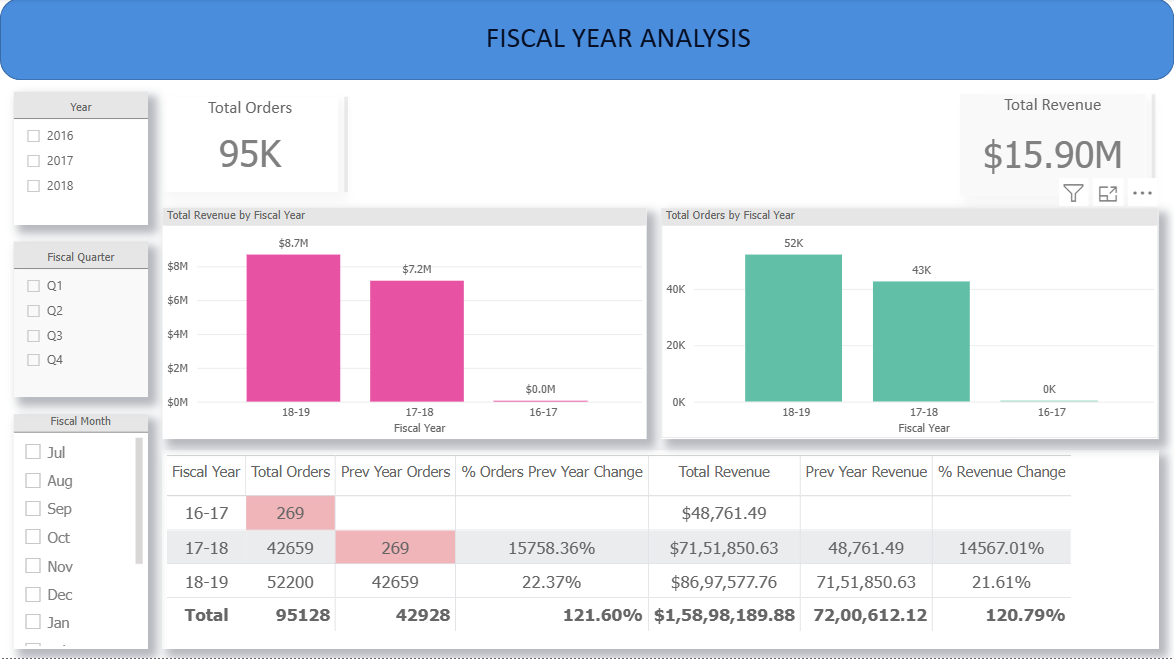

The dashboard page shown, as its layout file describes it:
{"tool":"powerbi","page":{"name":"Fiscal Year Analysis","canvas":[1280,720],"ordinal":5},"visuals":[{"type":"pivotTable","title":"Orders and Revenue by Fiscal Year","fields":{"Rows":["DimDate.Fiscal Year","DimDate.Fiscal Quarter","DimDate.Fiscal Month"],"Values":["AllMeasures.Total Orders","AllMeasures.Prev Year Orders","AllMeasures.% Orders Prev Year Change","AllMeasures.Total Revenue","AllMeasures.Prev Year Revenue","AllMeasures.% Revenue Change"]},"box":[176.6,493.8,1086.1,216.3],"z":0},{"type":"slicer","title":"Fiscal Month","fields":{"Values":["DimDate.Fiscal Month"]},"box":[14.5,454.4,146.1,256.1],"z":1000},{"type":"slicer","title":"Fiscal Quarter","fields":{"Values":["DimDate.Fiscal Quarter"]},"box":[14.5,266.2,146.1,169.3],"z":2000},{"type":"shape","box":[0,0,1280.5,89.5],"z":3000},{"type":"textbox","box":[525.3,17.4,314,53.5],"z":4000},{"type":"card","title":"Total Orders","fields":{"Values":["AllMeasures.Total Orders"]},"box":[176.5,107.1,191,104.2],"z":5000},{"type":"shape","box":[367.5,107.1,18.8,104.2],"z":6000},{"type":"card","title":"Total Revenue","fields":{"Values":["AllMeasures.Total Revenue"]},"box":[1046.5,104.5,202.6,111.4],"z":7000},{"type":"shape","box":[1249.3,104.5,15.9,105.6],"z":8000},{"type":"slicer","title":"Year","fields":{"Values":["DimDate.Year"]},"box":[14.5,102.7,146.1,144.7],"z":9000},{"type":"clusteredColumnChart","fields":{"Category":["DimDate.Fiscal Year"],"Y":["AllMeasures.Total Revenue"]},"box":[176.5,228.6,528.2,251.8],"z":10000},{"type":"clusteredColumnChart","fields":{"Category":["DimDate.Fiscal Year"],"Y":["AllMeasures.Total Orders"]},"box":[720.6,228.6,542.6,251.8],"z":11000}]}

Visuals, with their boxes in screenshot pixels (x1, y1, x2, y2), scaled from the page's 1280x720 canvas onto the 1174x659 screenshot:
"Orders and Revenue by Fiscal Year" pivotTable: bbox=[162, 452, 1158, 650]
"Fiscal Month" slicer: bbox=[13, 416, 147, 650]
"Fiscal Quarter" slicer: bbox=[13, 244, 147, 399]
shape: bbox=[0, 0, 1173, 82]
textbox: bbox=[482, 16, 770, 65]
"Total Orders" card: bbox=[162, 98, 337, 193]
shape: bbox=[337, 98, 354, 193]
"Total Revenue" card: bbox=[960, 96, 1146, 198]
shape: bbox=[1146, 96, 1160, 192]
"Year" slicer: bbox=[13, 94, 147, 226]
clusteredColumnChart - DimDate.Fiscal Year x AllMeasures.Total Revenue: bbox=[162, 209, 646, 440]
clusteredColumnChart - DimDate.Fiscal Year x AllMeasures.Total Orders: bbox=[661, 209, 1159, 440]
